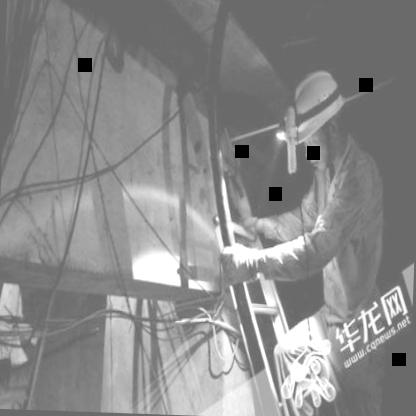helmet: (286, 57, 354, 185)
